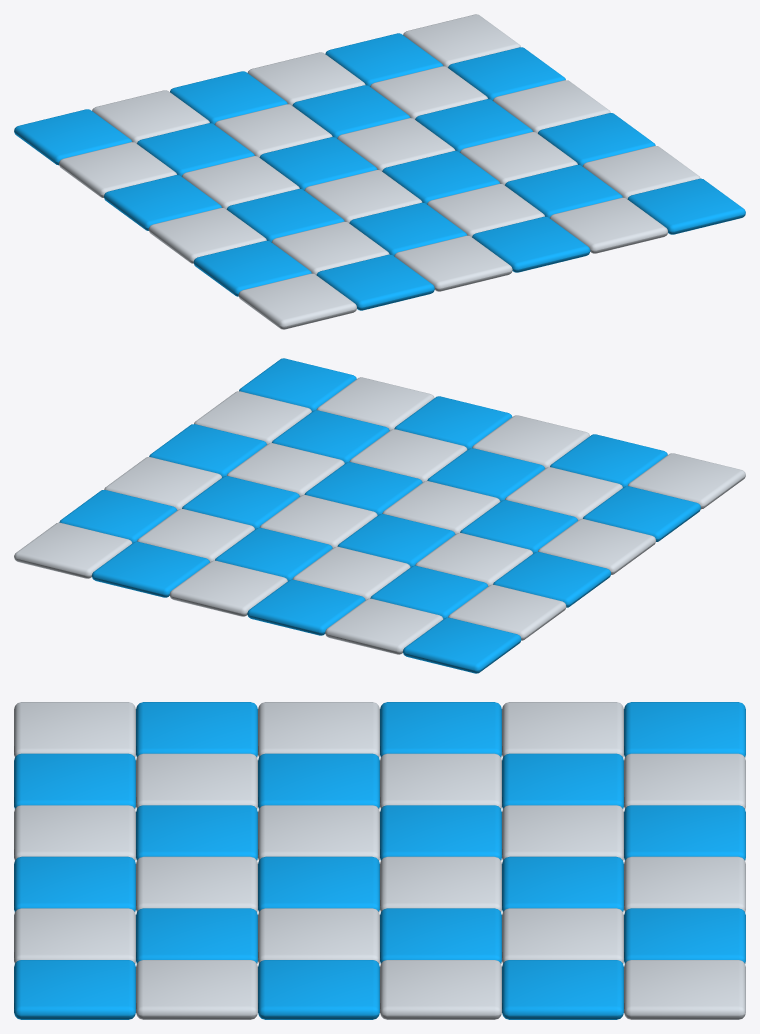
Rendered from RoomGround1.fbx.
3 renders of one model, top to bottom at view 1: azimuth 30°, elevation 25°; view 2: azimuth 150°, elevation 25°; view 3: azimuth 270°, elevation 25°, orthographic. The views are drawn at different scales.
Visible parts, largest first — view 1: RoomGround1; view 2: RoomGround1; view 3: RoomGround1.
Boxes of the visible parts, bbox=[...] form: RoomGround1: bbox=[14, 14, 745, 329]; RoomGround1: bbox=[14, 358, 745, 673]; RoomGround1: bbox=[14, 702, 745, 1019].
Bounding box in the file's own units: 6 × 6 × 0.12.
